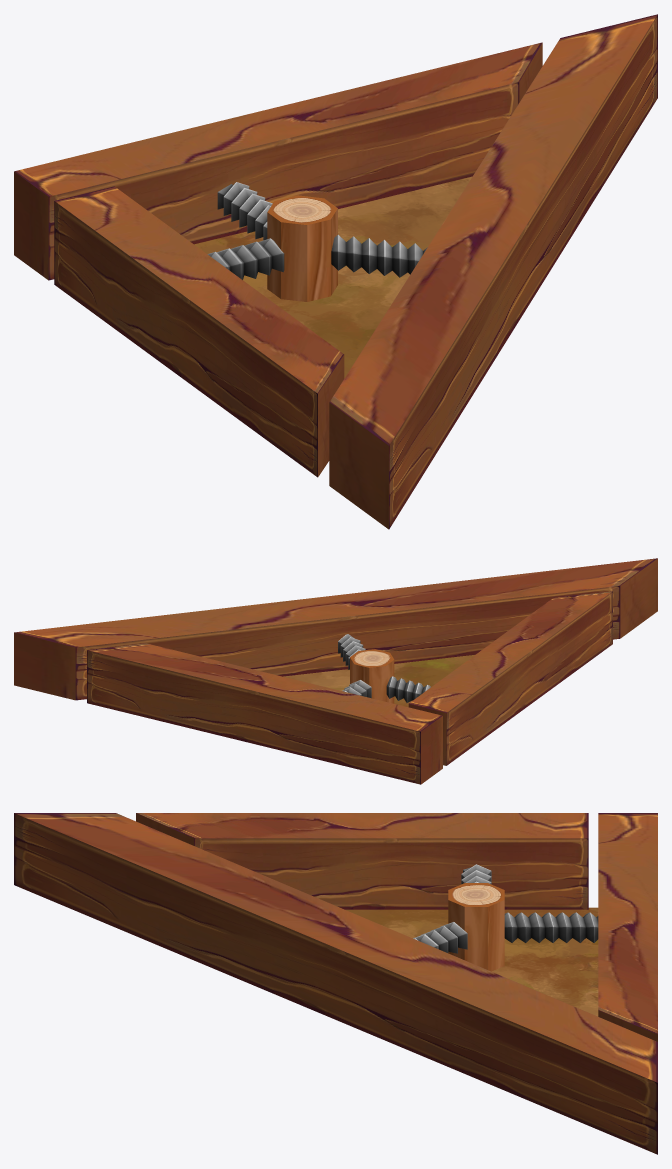
The model's file is triangle_wood_04.fbx.
3 views of the same model, one above another, from view 1: azimuth 30°, elevation 25°; view 2: azimuth 150°, elevation 25°; view 3: azimuth 270°, elevation 25° (orthographic). The views are drawn at different scales.
Visible parts, largest first — view 1: wall_78, wall_76, wall_77, floor_3, Middle_9, spring_12, spring_10, spring_11; view 2: wall_78, wall_76, wall_77, floor_3, Middle_9, spring_10, spring_12; view 3: wall_78, wall_77, wall_76, floor_3, Middle_9, spring_11, spring_12.
Boxes of the visible parts, left/top/right/bottom form: wall_78: left=329, top=14, right=657, bottom=529; wall_76: left=14, top=42, right=542, bottom=280; wall_77: left=54, top=186, right=344, bottom=477; floor_3: left=194, top=176, right=472, bottom=378; Middle_9: left=267, top=195, right=337, bottom=301; spring_12: left=331, top=234, right=427, bottom=277; spring_10: left=207, top=238, right=284, bottom=279; spring_11: left=217, top=182, right=272, bottom=240; wall_78: left=14, top=558, right=657, bottom=700; wall_76: left=87, top=643, right=442, bottom=784; wall_77: left=408, top=591, right=612, bottom=765; floor_3: left=283, top=655, right=474, bottom=707; Middle_9: left=350, top=649, right=394, bottom=703; spring_10: left=386, top=676, right=430, bottom=702; spring_12: left=338, top=634, right=365, bottom=669; wall_78: left=14, top=813, right=657, bottom=1154; wall_77: left=136, top=813, right=588, bottom=909; wall_76: left=598, top=813, right=657, bottom=1041; floor_3: left=345, top=907, right=598, bottom=1016; Middle_9: left=448, top=883, right=504, bottom=971; spring_11: left=504, top=912, right=598, bottom=942; spring_12: left=413, top=922, right=467, bottom=953.
Size of the model in its own units: 322 by 40 by 324.
